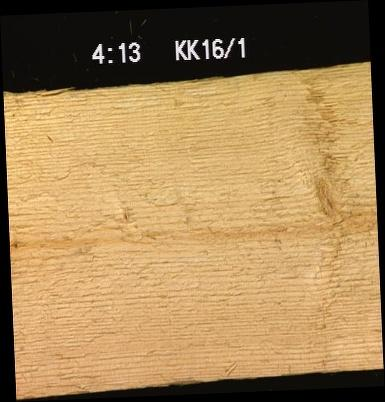small_knot: (120, 207, 129, 221), (11, 241, 18, 249)
split: (3, 85, 142, 96)
